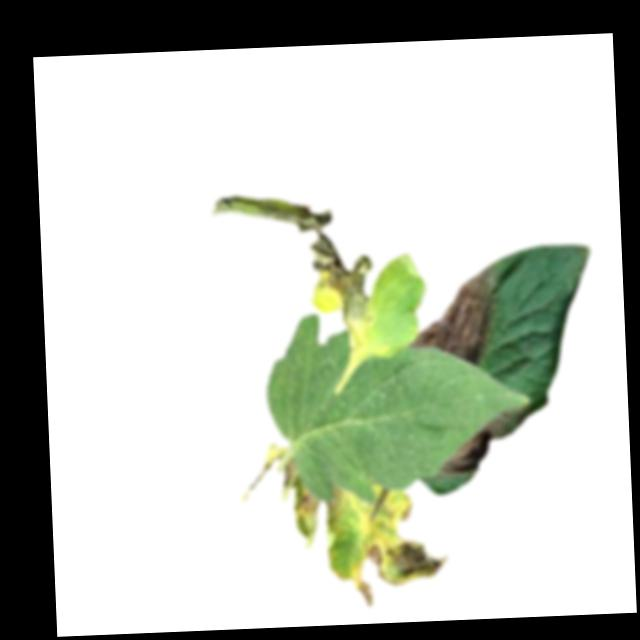Late_blight: (208, 191, 375, 337), (410, 261, 501, 367), (437, 404, 509, 478), (366, 533, 449, 586), (331, 558, 374, 609), (293, 488, 320, 550), (323, 486, 345, 551), (399, 501, 414, 520)
healthy: (261, 305, 533, 503)
